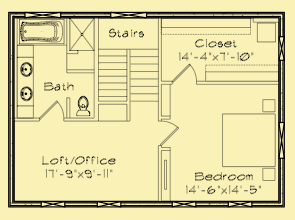bed: (219, 111, 276, 168)
door: (39, 100, 65, 123), (171, 63, 197, 85), (161, 121, 179, 147)
large_sink: (74, 95, 93, 117)
small_sink: (17, 55, 36, 107)
stairs: (95, 47, 159, 124)
tub: (17, 18, 65, 46)
window: (22, 11, 65, 21), (277, 122, 287, 159), (110, 12, 147, 19), (39, 201, 65, 209), (227, 201, 253, 209), (277, 37, 284, 61), (97, 201, 121, 208), (171, 201, 196, 207)
